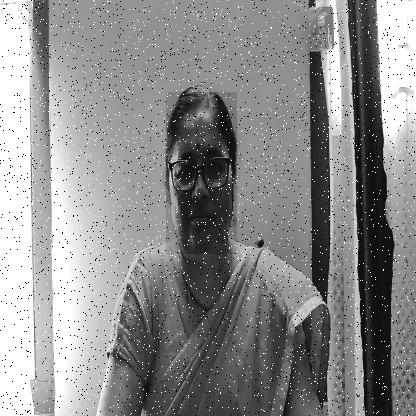Normal: (166, 92, 237, 254)
